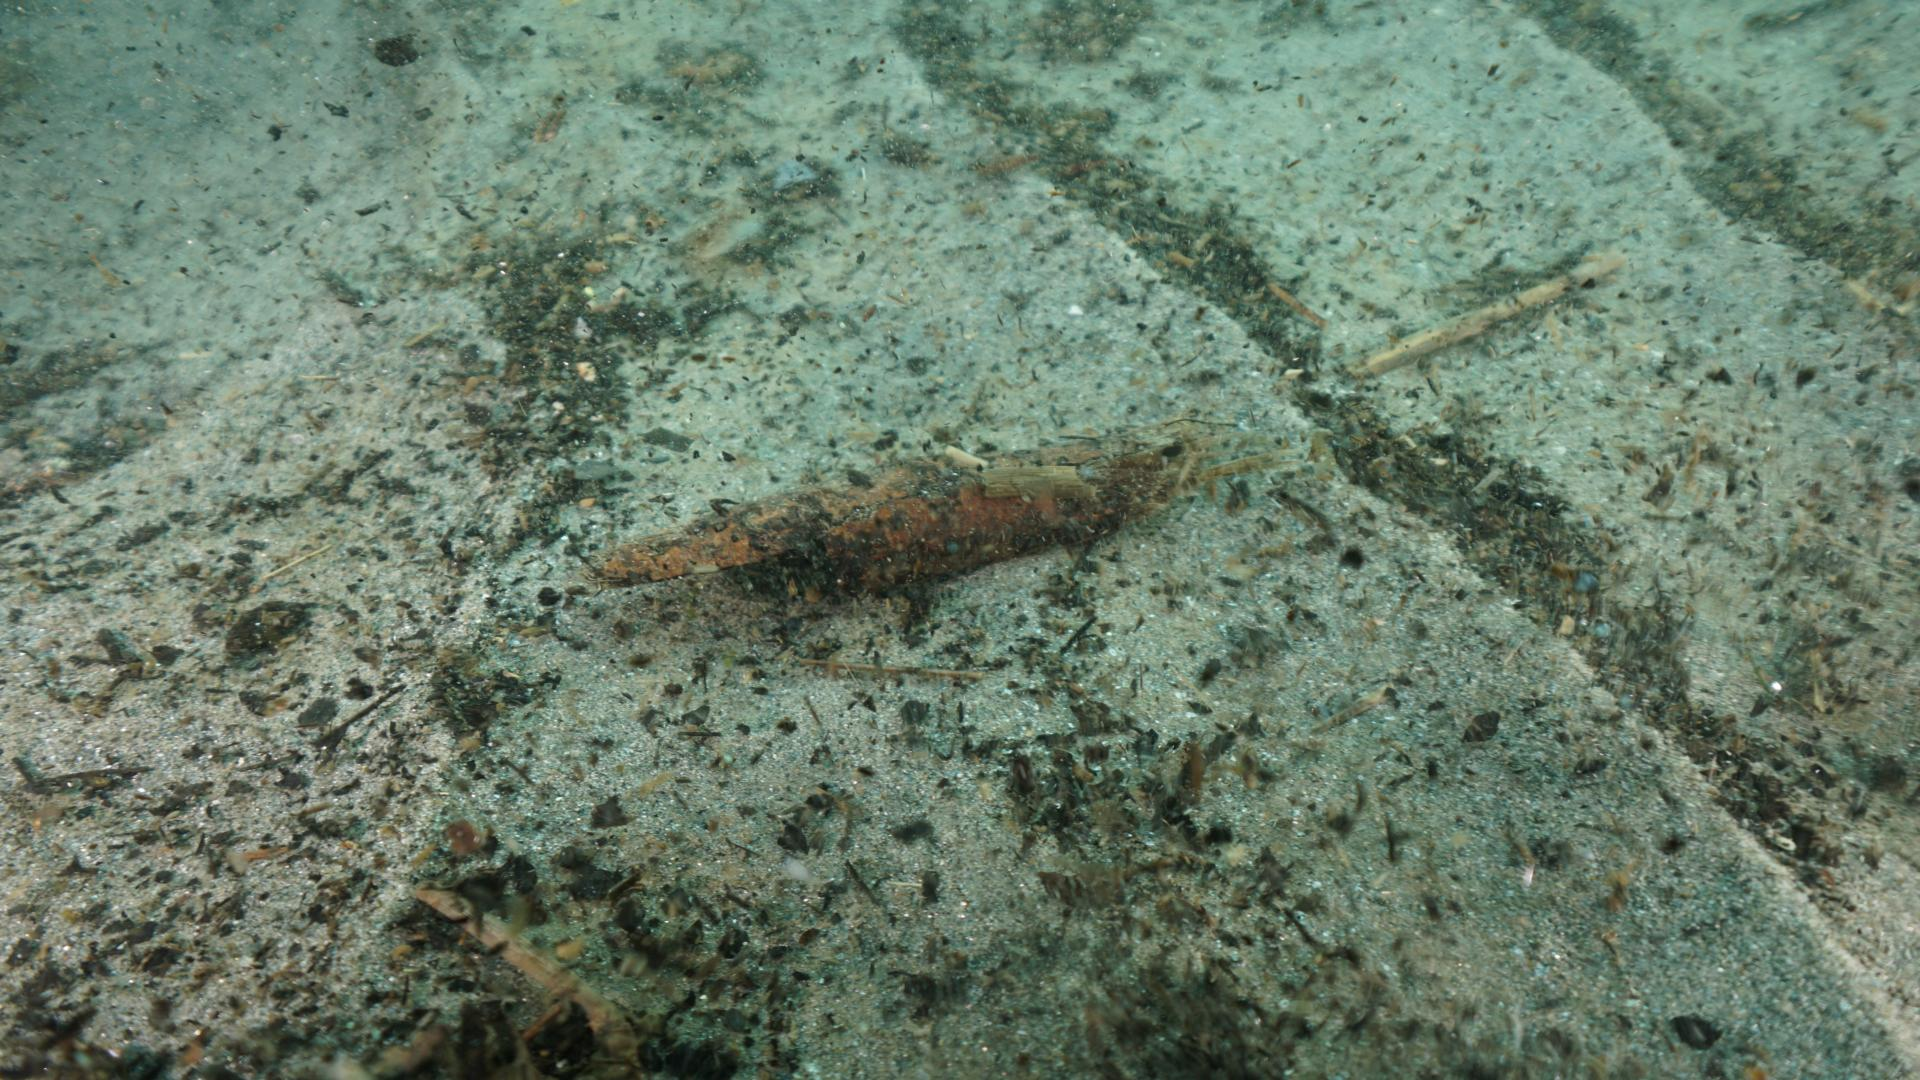wood: (587, 415, 1217, 622)
